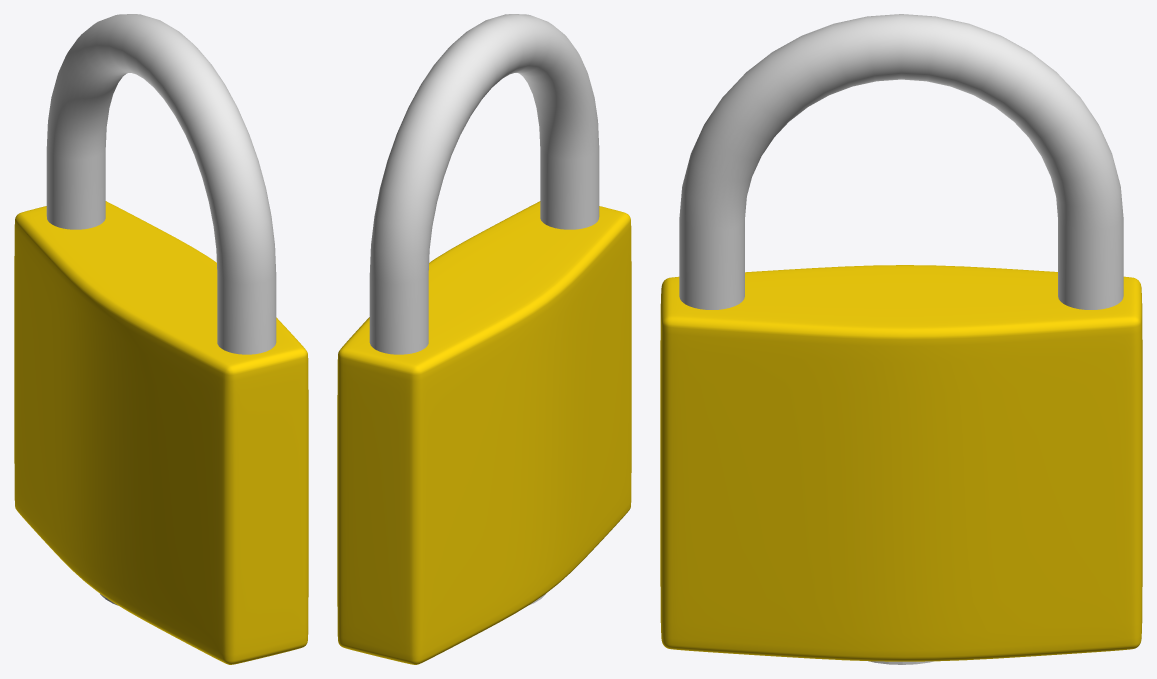
The model's file is lock.fbx.
3 renders of one model, left to right at view 1: azimuth 30°, elevation 25°; view 2: azimuth 150°, elevation 25°; view 3: azimuth 270°, elevation 25°, orthographic. The views are drawn at different scales.
Visible parts, largest first — view 1: Cube, Circle; view 2: Cube, Circle; view 3: Cube, Circle.
Part boxes in pixels (bbox=[...]): Cube: bbox=[14, 201, 308, 664]; Circle: bbox=[46, 14, 276, 354]; Cube: bbox=[337, 201, 631, 664]; Circle: bbox=[369, 14, 599, 354]; Cube: bbox=[660, 265, 1142, 661]; Circle: bbox=[679, 14, 1123, 309].
Bounding box in the file's own units: 69.33 × 283 × 200.
